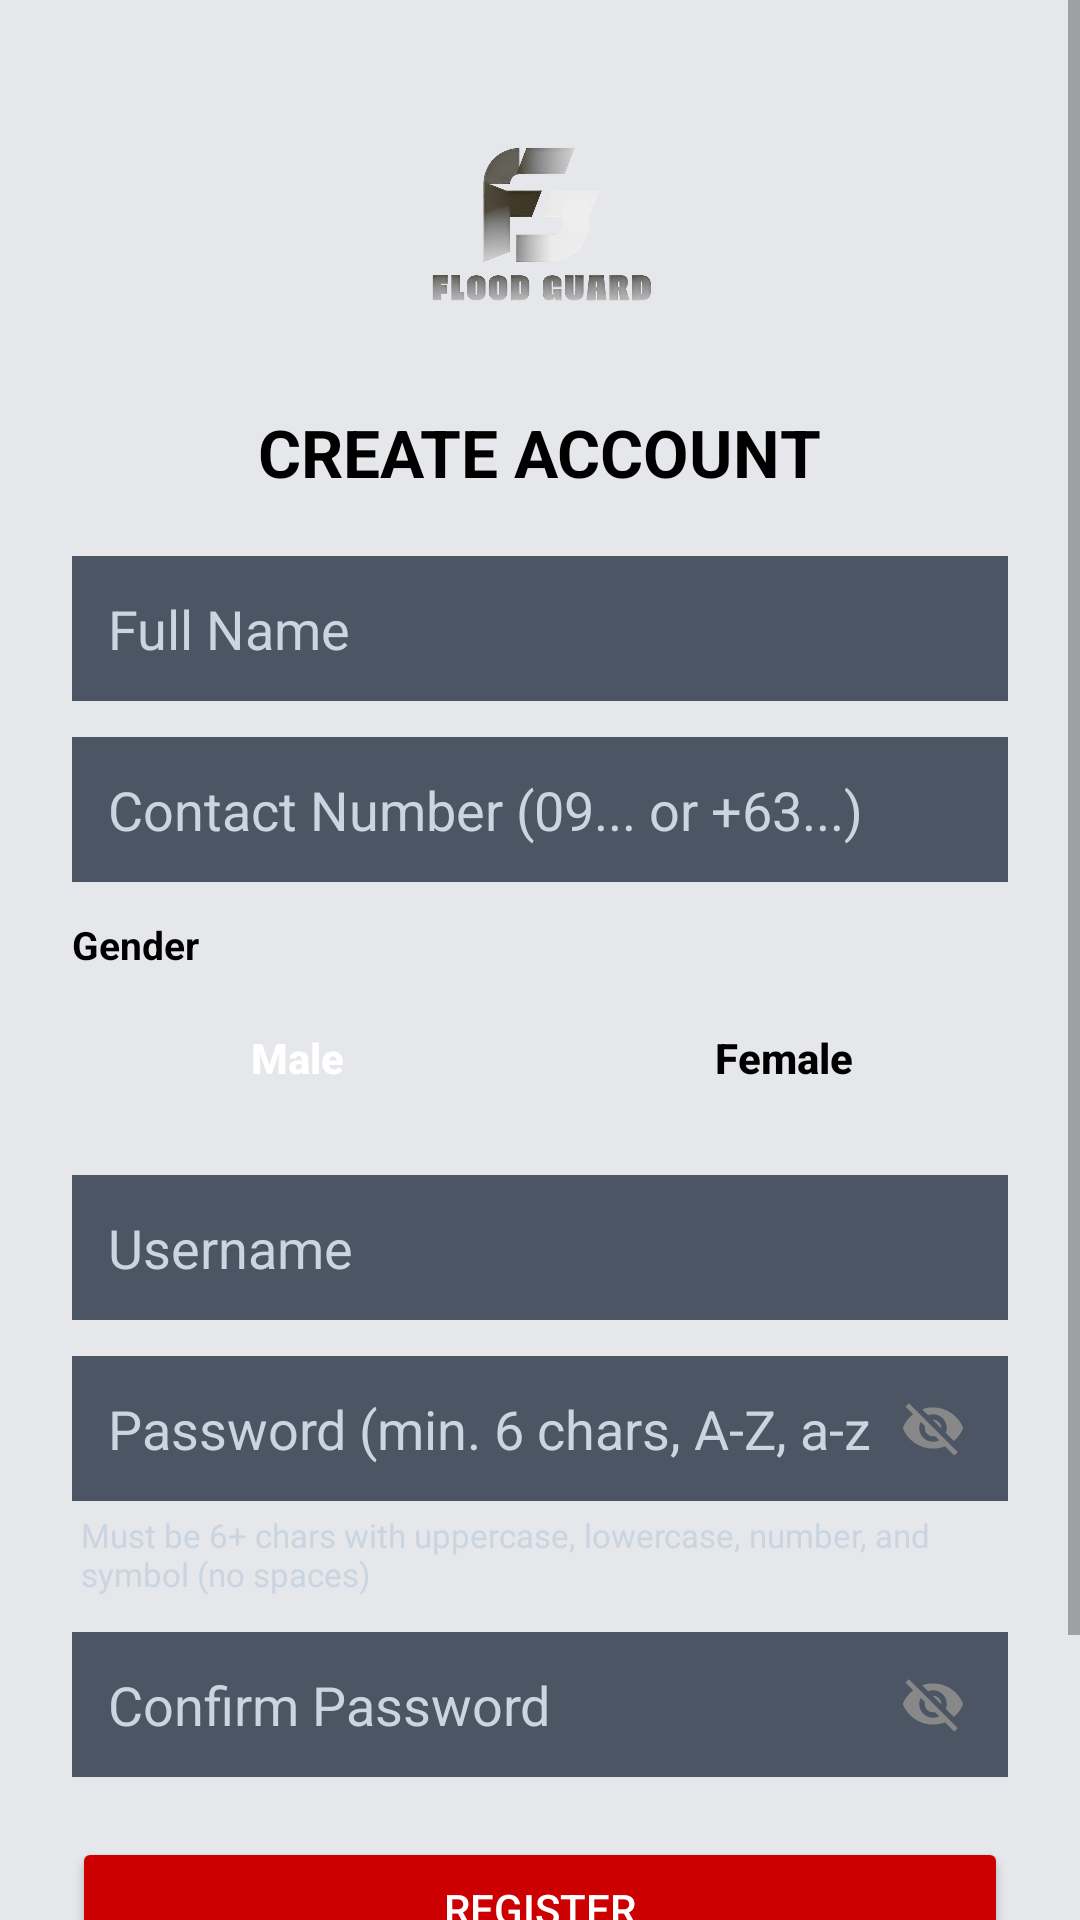

Icon bounding boxes for this 1080*1920 phone screenshot, format (x1, y1, x2, y2):
Toggle Password Visibility: (903, 1404, 963, 1455)
